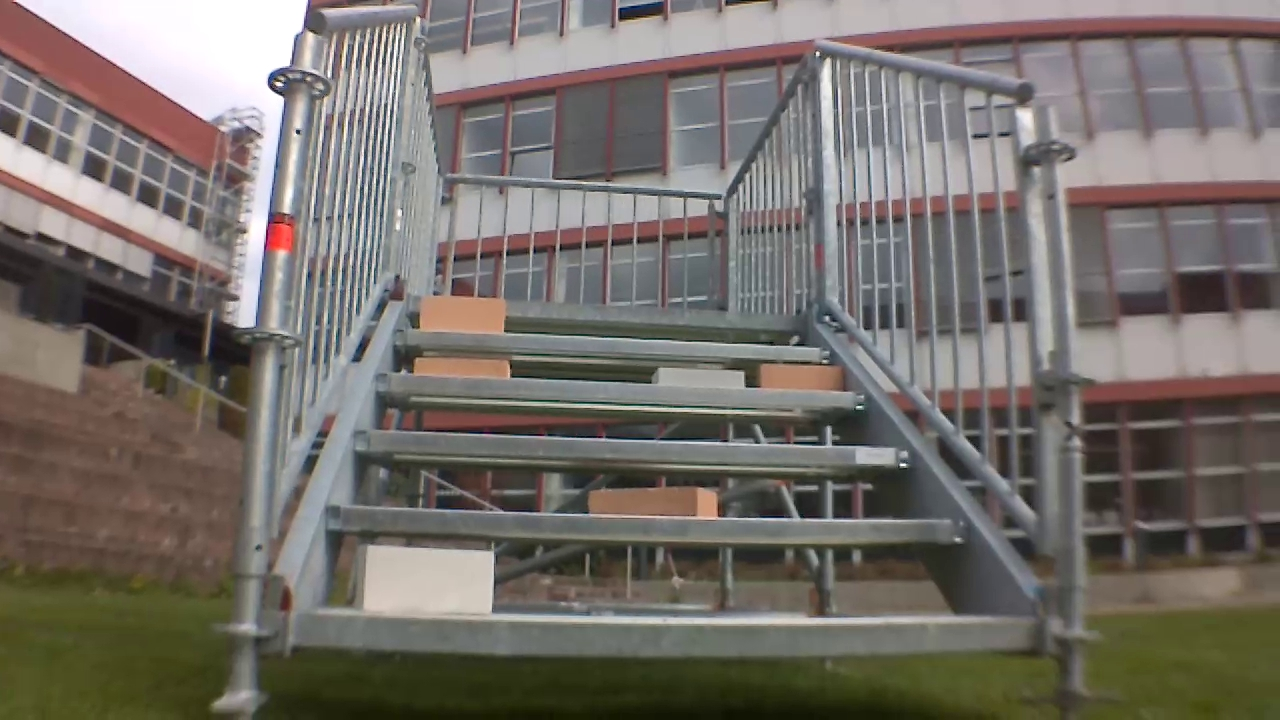brick: (349, 549, 501, 616), (588, 486, 717, 520), (416, 298, 510, 333), (406, 356, 516, 381), (756, 367, 844, 390), (651, 369, 743, 389)
edge: (298, 610, 1051, 657), (323, 509, 982, 540), (349, 437, 915, 459), (373, 377, 872, 397), (389, 335, 845, 354), (410, 302, 811, 323)
stairs: (252, 5, 1089, 696)
steps: (263, 308, 1048, 659)
